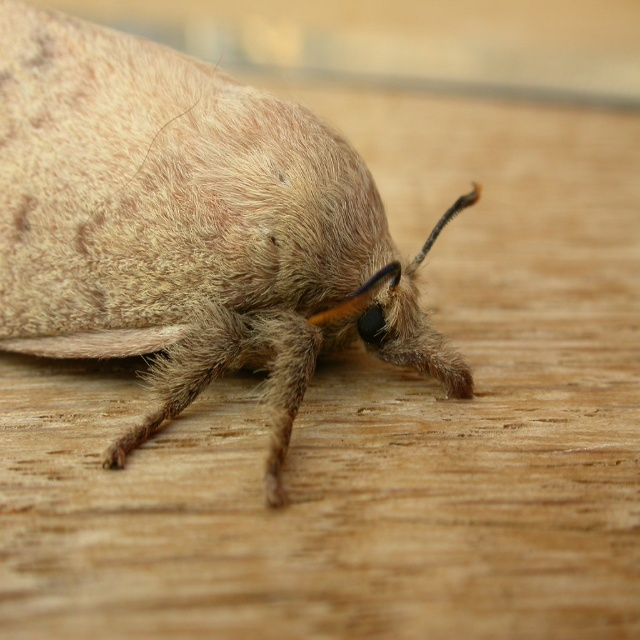Moths and butterflies: (0, 4, 482, 510)
